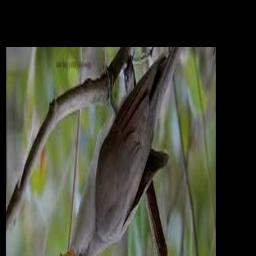Cuckoo: (61, 47, 181, 256)
